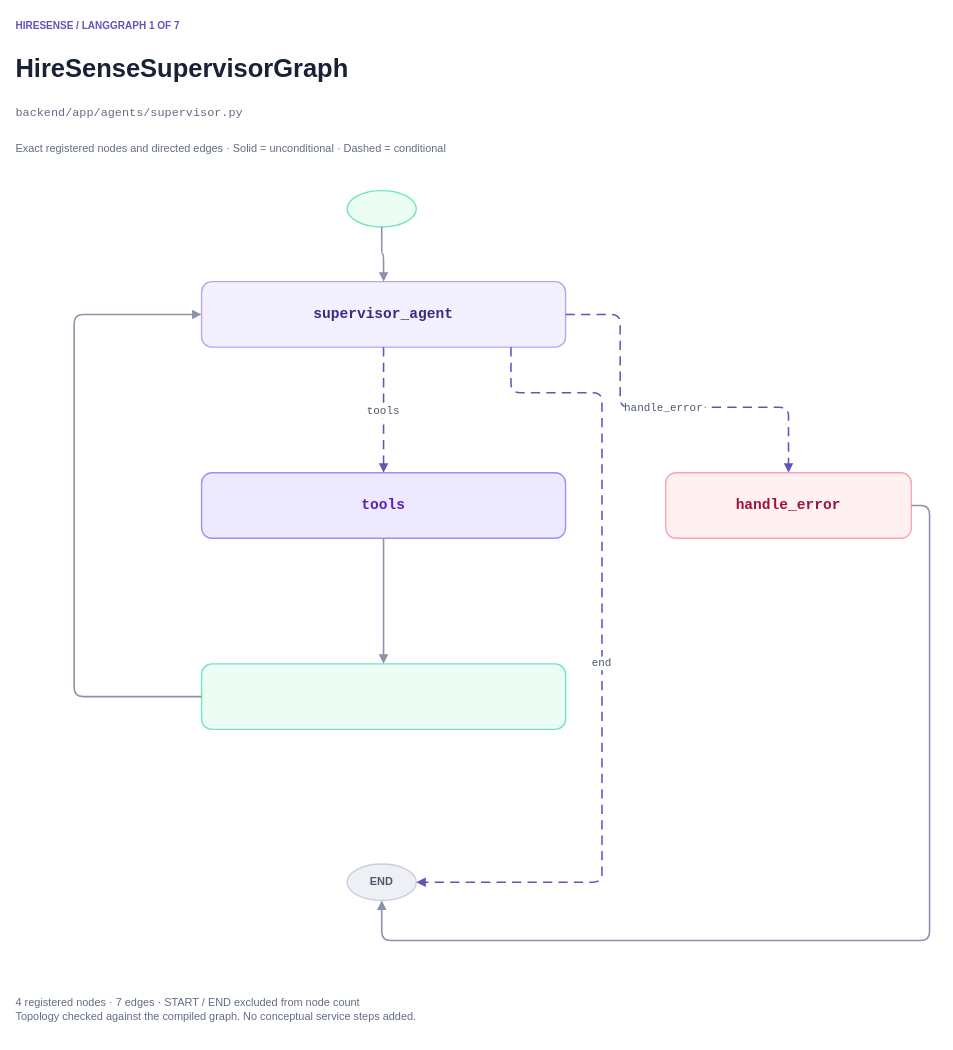
The diagram is 953 pixels wide and 1050 high, and some of its shapes have lost their labels. The shapes that lost their labels are listed below. From the top down, each one's centre as x and y in pixels, then its label:
the point at 381,208: START
the point at 383,696: capture_tool_result
